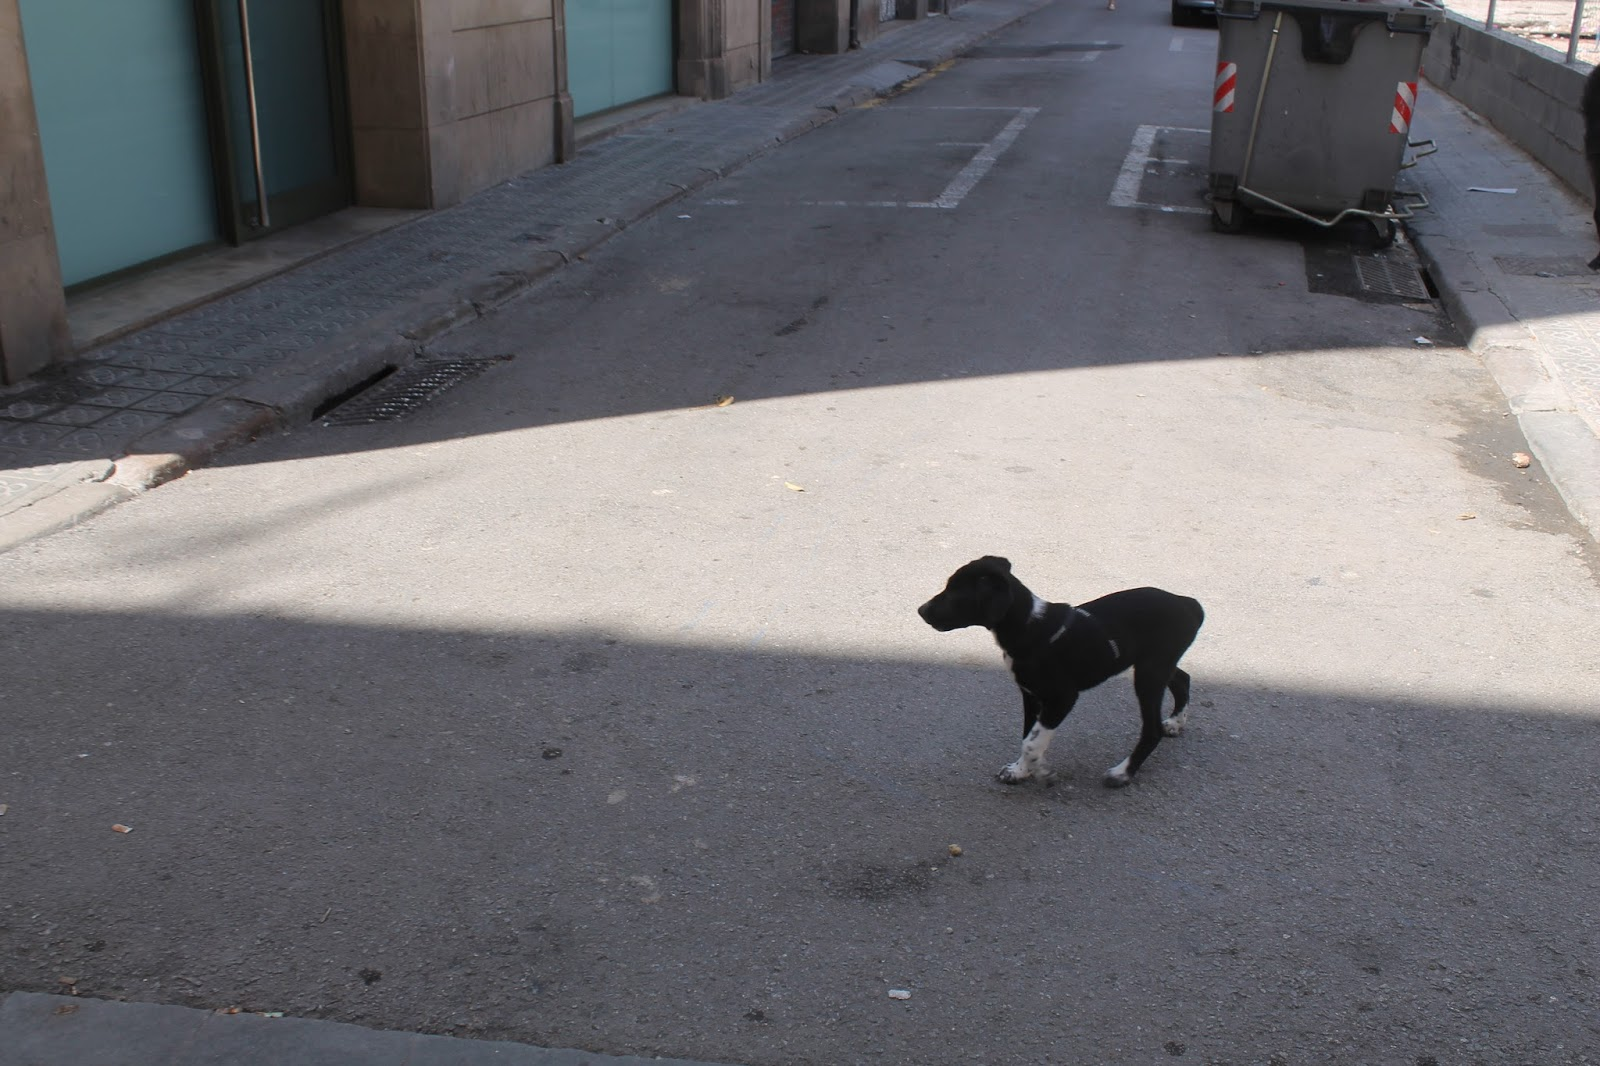kopek: (911, 535, 1265, 820)
